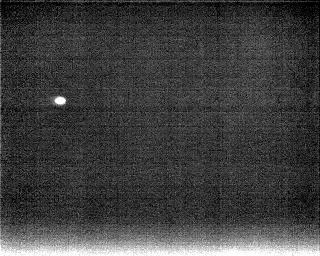AIRPLANE: (52, 93, 69, 108)
